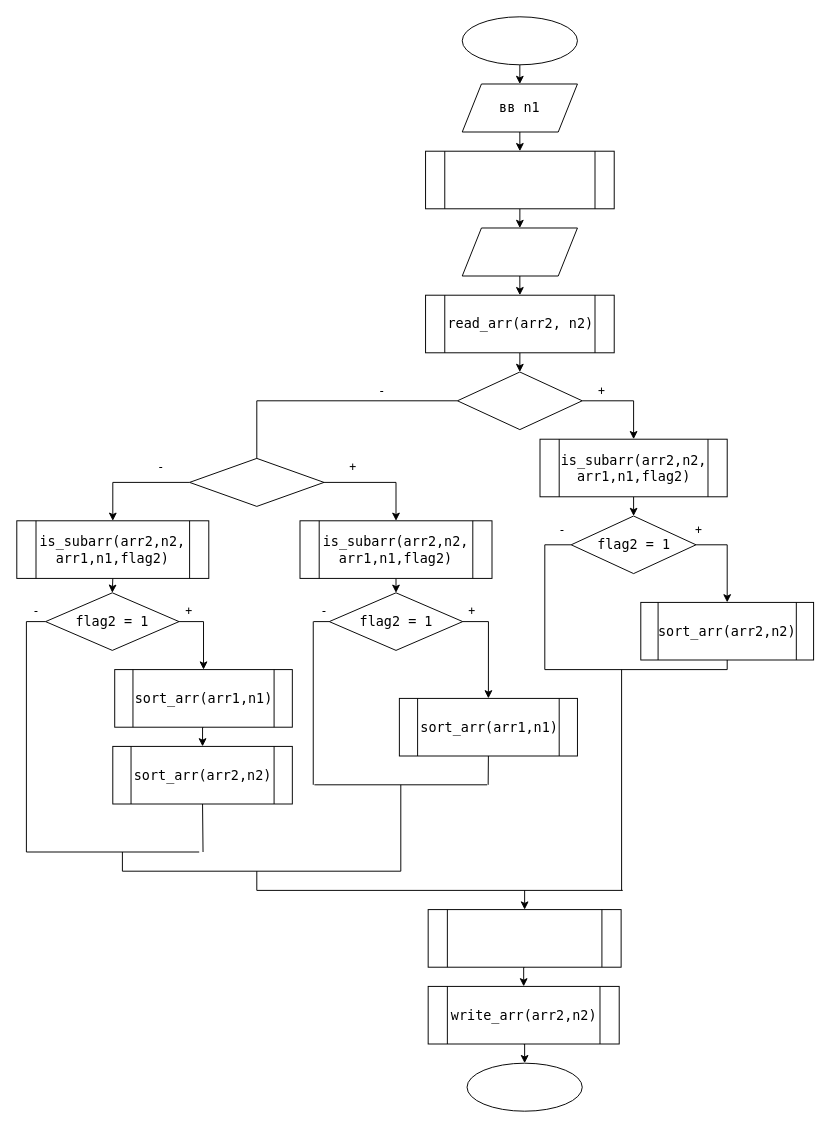
The diagram is 830 pixels wide and 1128 high, and some of its shapes have lost their labels. The box of each missing label's shape, as (x1, y1, x2, y2) in pixels:
n1 > n2: (456, 371, 582, 430)
n2 > n1: (189, 457, 324, 506)
read_arr(arr1, n1): (425, 150, 614, 209)
write_arr(arr1,n1): (427, 909, 621, 967)
вв n2: (461, 227, 577, 276)
конец: (466, 1062, 582, 1111)
начало: (461, 16, 577, 65)
